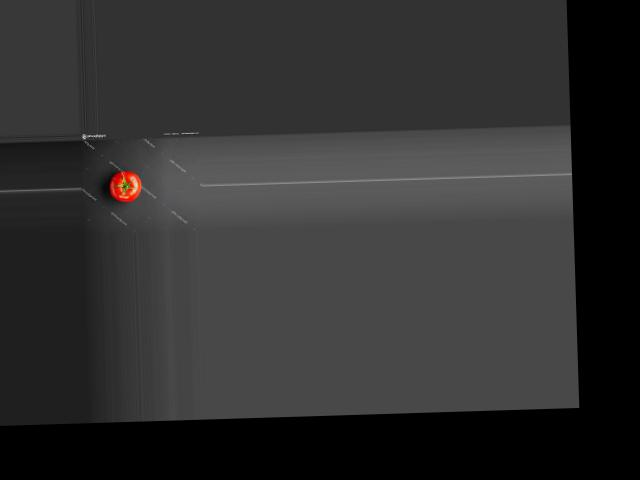tomato: (109, 169, 142, 202)
